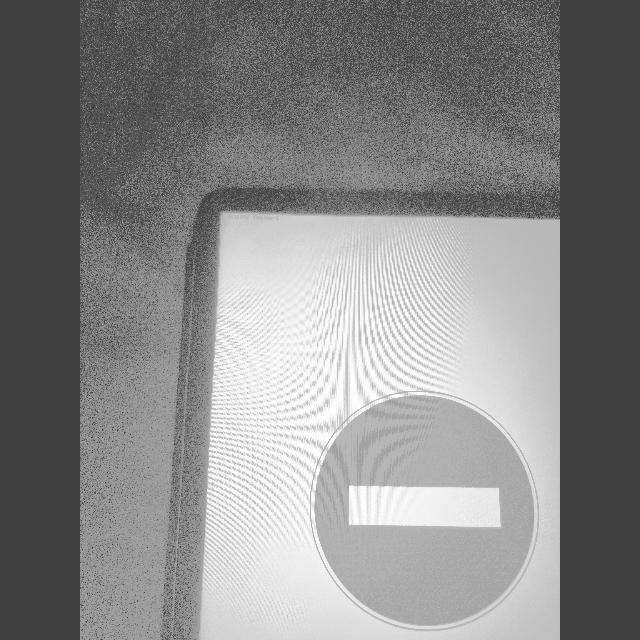NO ENTRY: (312, 394, 534, 480)
